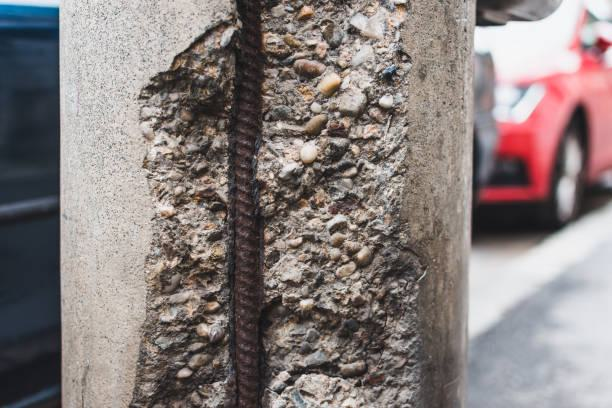Exposed reinforcement: (231, 1, 265, 408)
Spalling: (125, 1, 426, 408)
